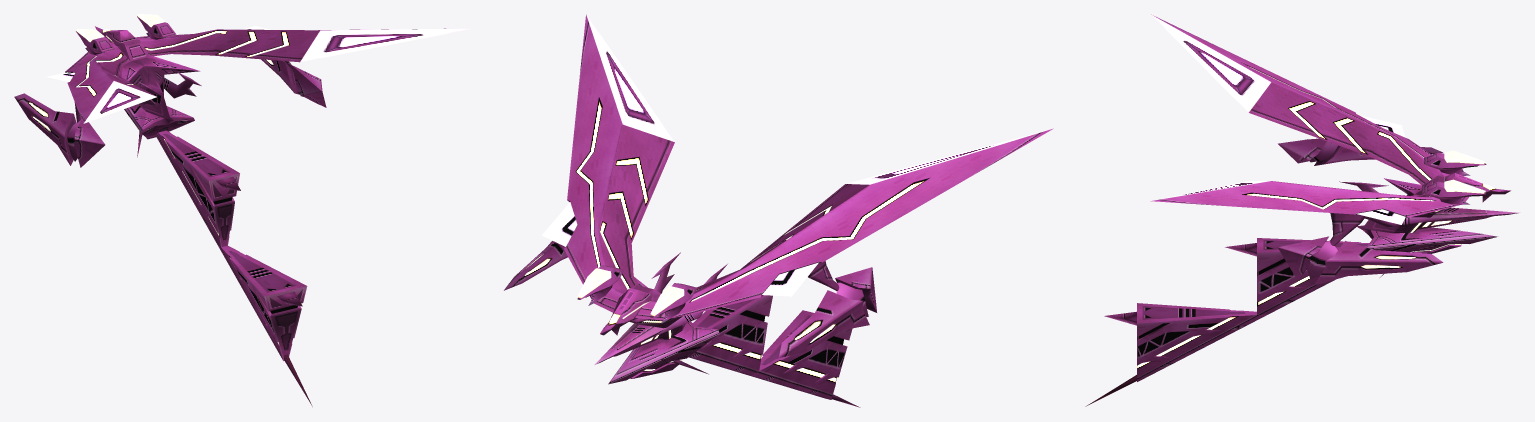
3 renders of one model, left to right at view 1: azimuth 30°, elevation 25°; view 2: azimuth 150°, elevation 25°; view 3: azimuth 270°, elevation 25°, orthographic. The views are drawn at different scales.
Parts seen in each view (by area): view 1: body; view 2: body; view 3: body.
Boxes of the visible parts, box(x1,y1,x2,y2) form: body: box(14, 14, 472, 406); body: box(504, 14, 1053, 407); body: box(1085, 14, 1520, 406).
Bounding box in the file's own units: 29.7 × 22.23 × 29.35.
1 material, 1 textured.
